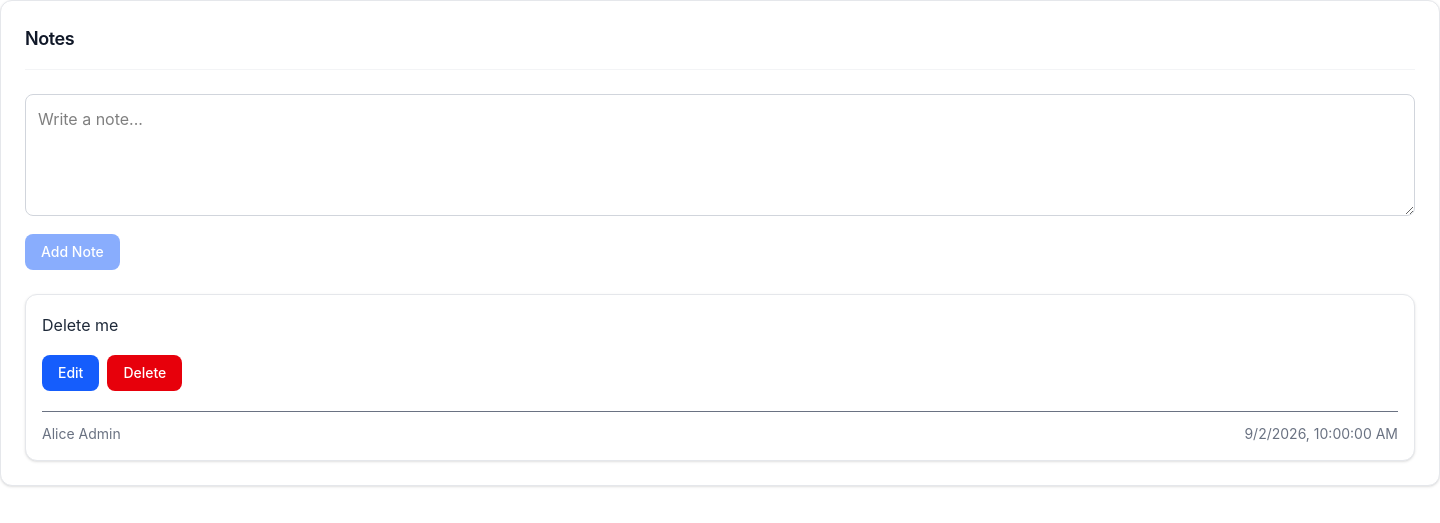
LeadNotes › deletes a note
Check: the text "Delete me" is shown, box left=42, top=315, right=118, bottom=335
Click the button "Delete". click: point(145, 373)
box: left=107, top=355, right=182, bottom=391
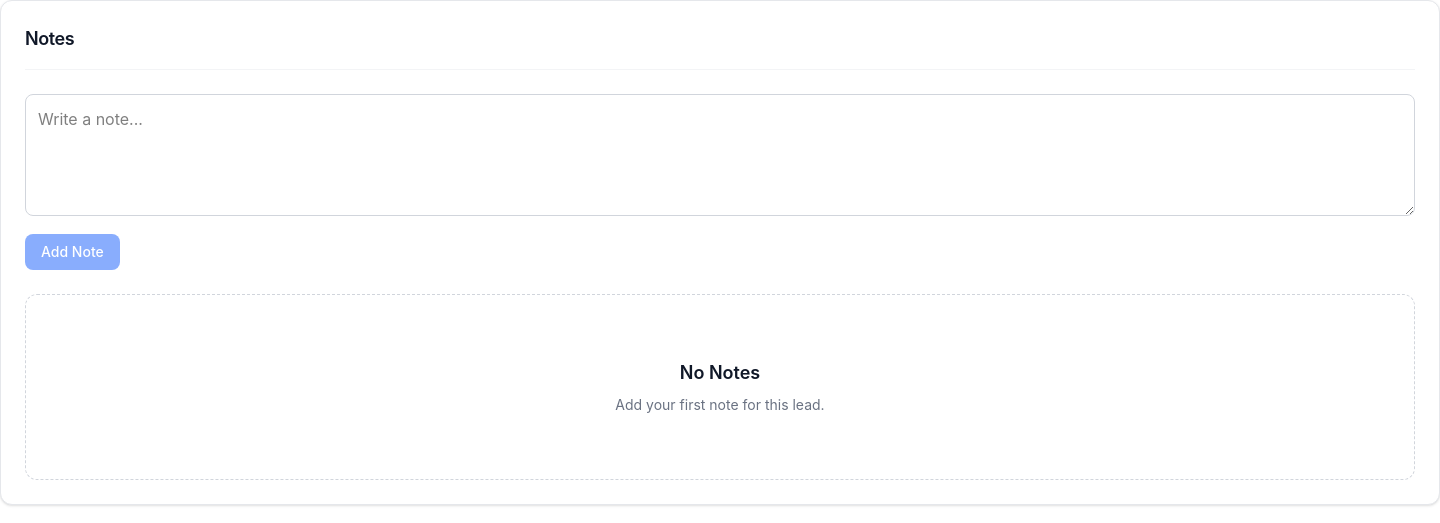
Check: the text "Delete me" is gone
Check: the heading "No Notes" is shown, box left=680, top=362, right=760, bottom=383
